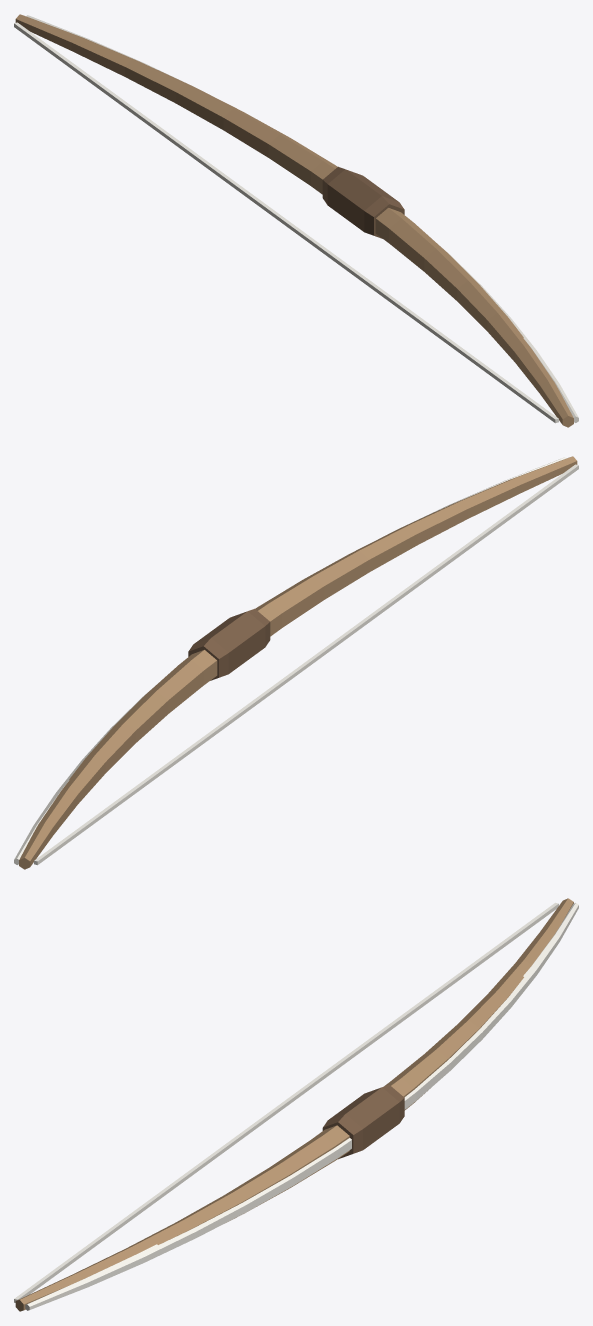
The model's file is yewlongbow.glb.
The picture shows the model from 3 angles, top to bottom: view 1: azimuth 30°, elevation 25°; view 2: azimuth 150°, elevation 25°; view 3: azimuth 330°, elevation 25°; orthographic projection.
Visible parts, largest first — view 1: yewlongbow; view 2: yewlongbow; view 3: yewlongbow.
Boxes of the visible parts, x1,y1,x2,y2 form: yewlongbow: [14, 14, 578, 427]; yewlongbow: [14, 456, 578, 869]; yewlongbow: [14, 898, 578, 1311].
Size of the model in its own units: 0.1527 by 0.0644 by 1.5.
